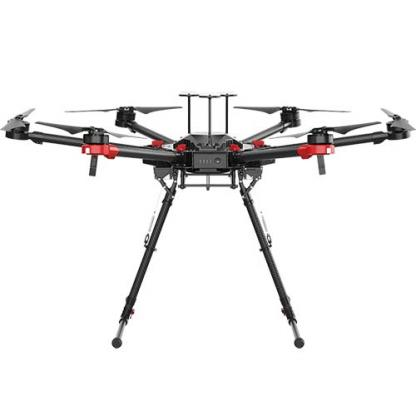drone: (1, 88, 416, 212)
